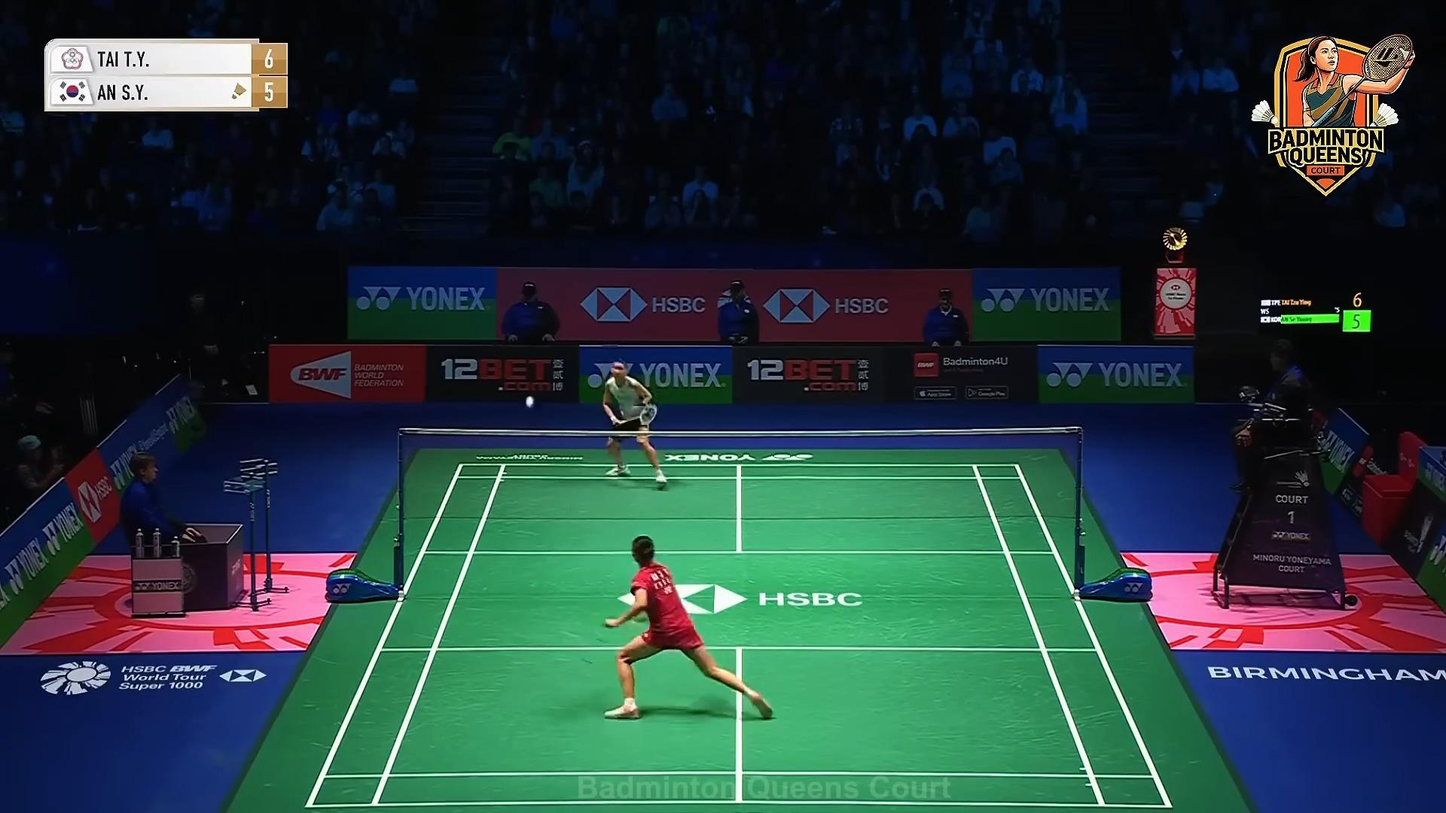player: (602, 536, 773, 720), (602, 361, 667, 489)
shuttlecock: (525, 395, 535, 409)
